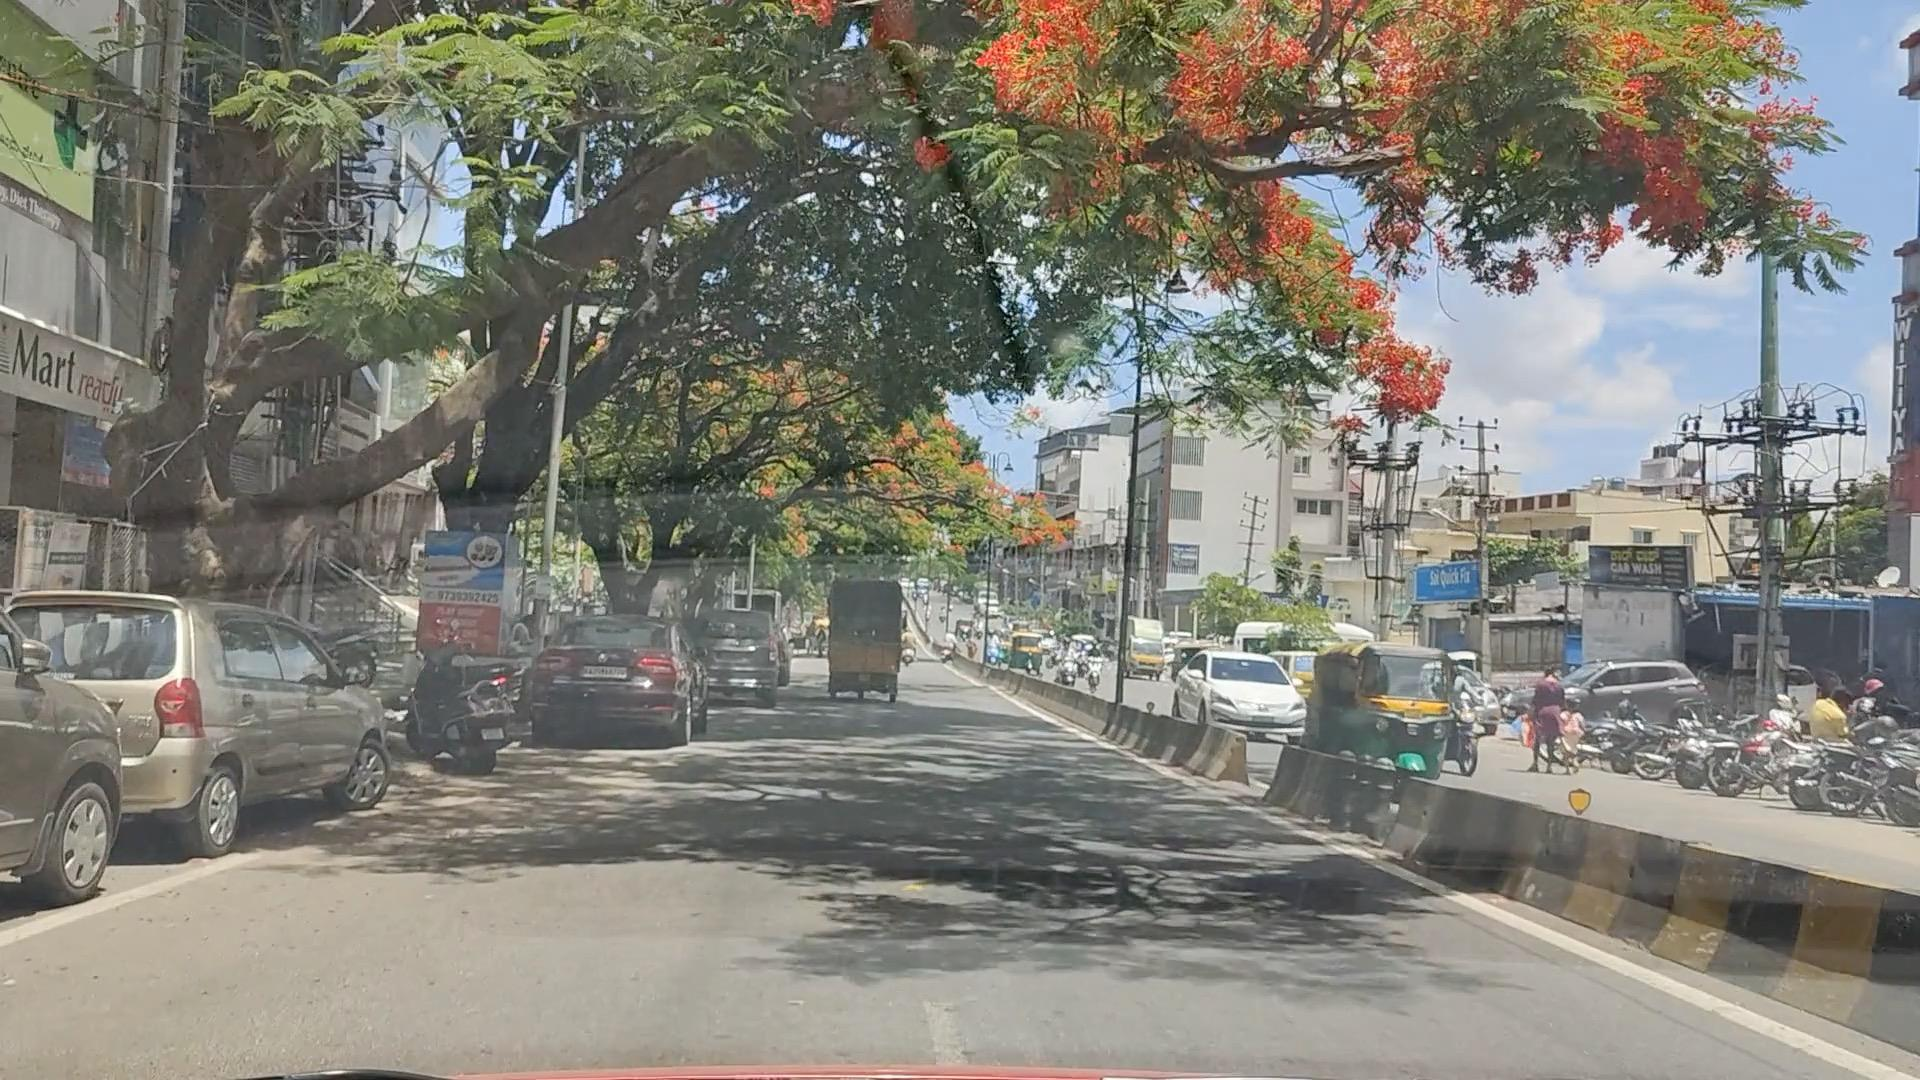HMV: (836, 574, 906, 699)
LMV: (530, 620, 691, 748)
